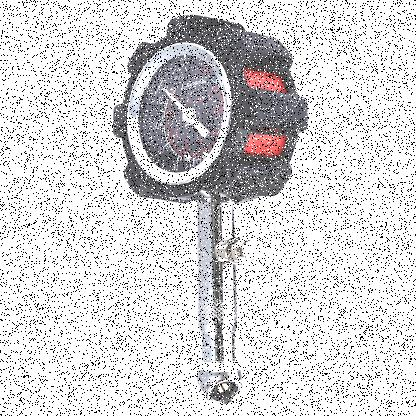needle: (162, 86, 187, 113)
